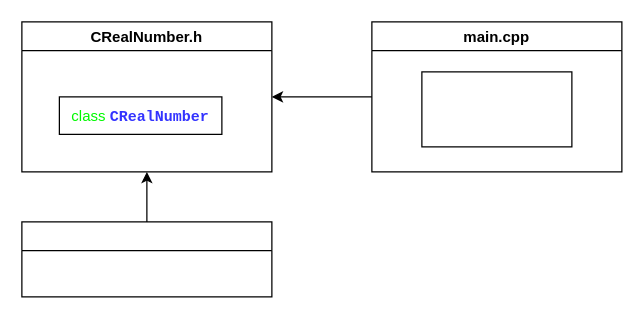
Image size: 644x319. Some labels were removed from this diagram. The centre of each missing label's shape, as x and y in pixels:
CRealNumber.cpp: [146,259]
main(): [496,109]
